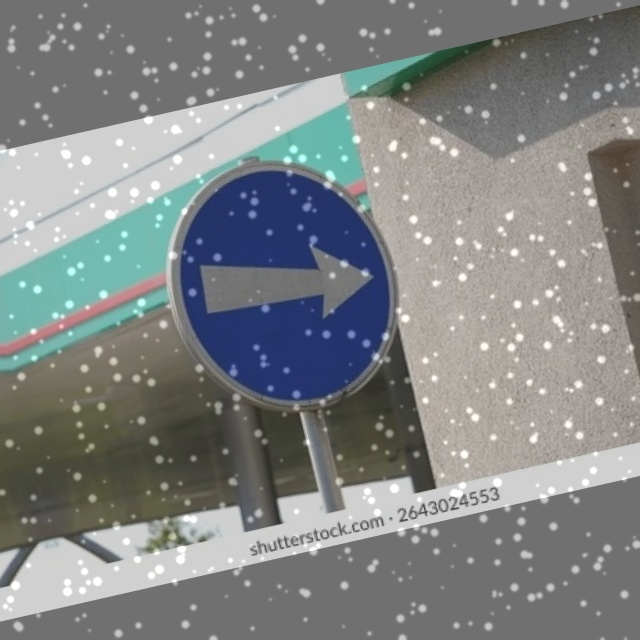Compulsory_Turn_Right: (150, 133, 427, 435)
